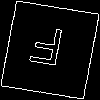F: (25, 25, 66, 76)
